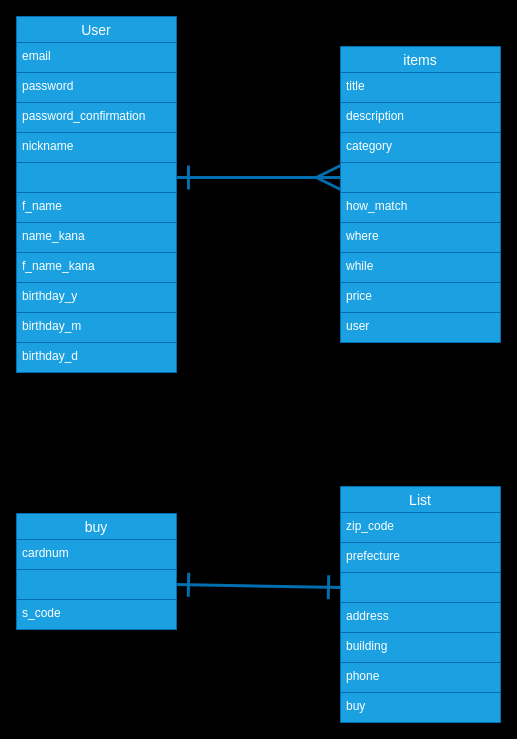
This 517x739 diagram has some shape labels left out. Here are the shapes that lost their labels. From the top down, the centre of each, then its label:
[96,177]: name
[420,177]: state
[96,584]: until
[420,587]: city
